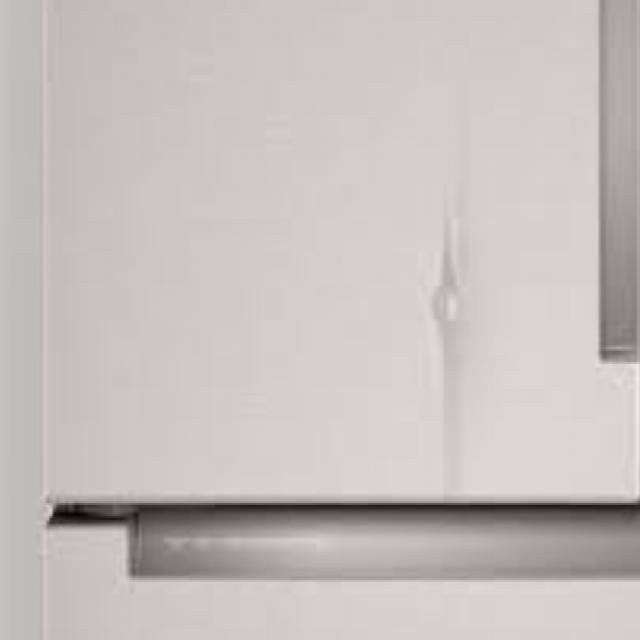dents: (401, 193, 512, 493)
